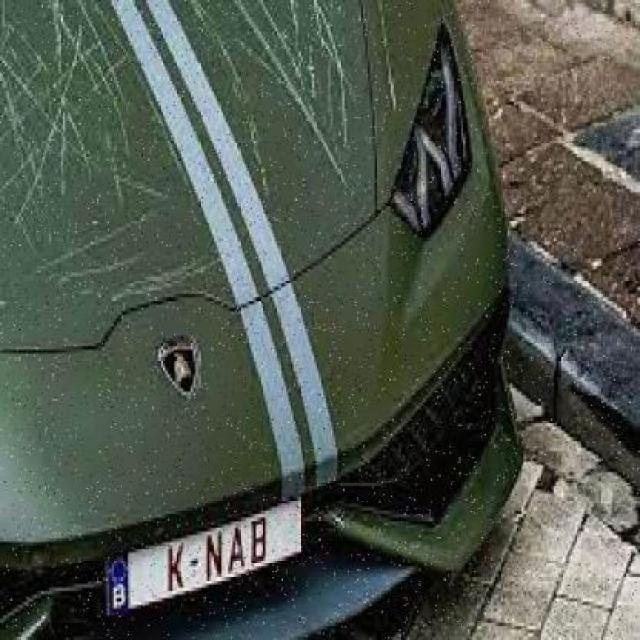bonnet-dent: (0, 3, 508, 476)
